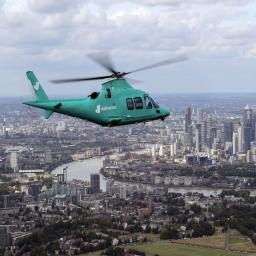helicopter: (23, 47, 191, 131)
